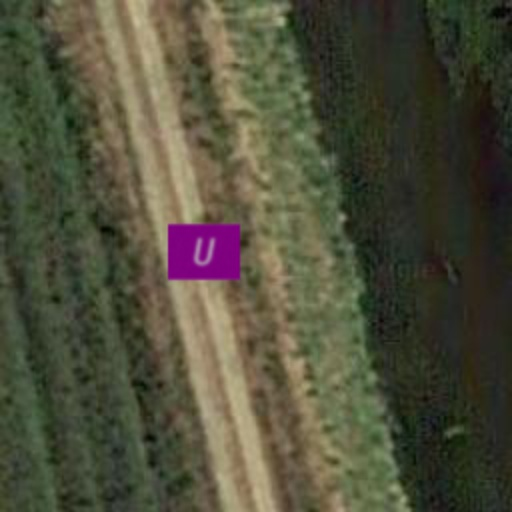rectangle: (166, 214, 242, 290)
